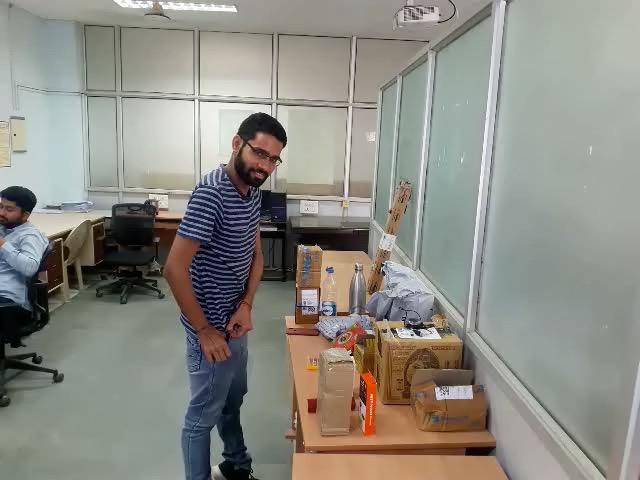shoplifting: (186, 312, 247, 378)
